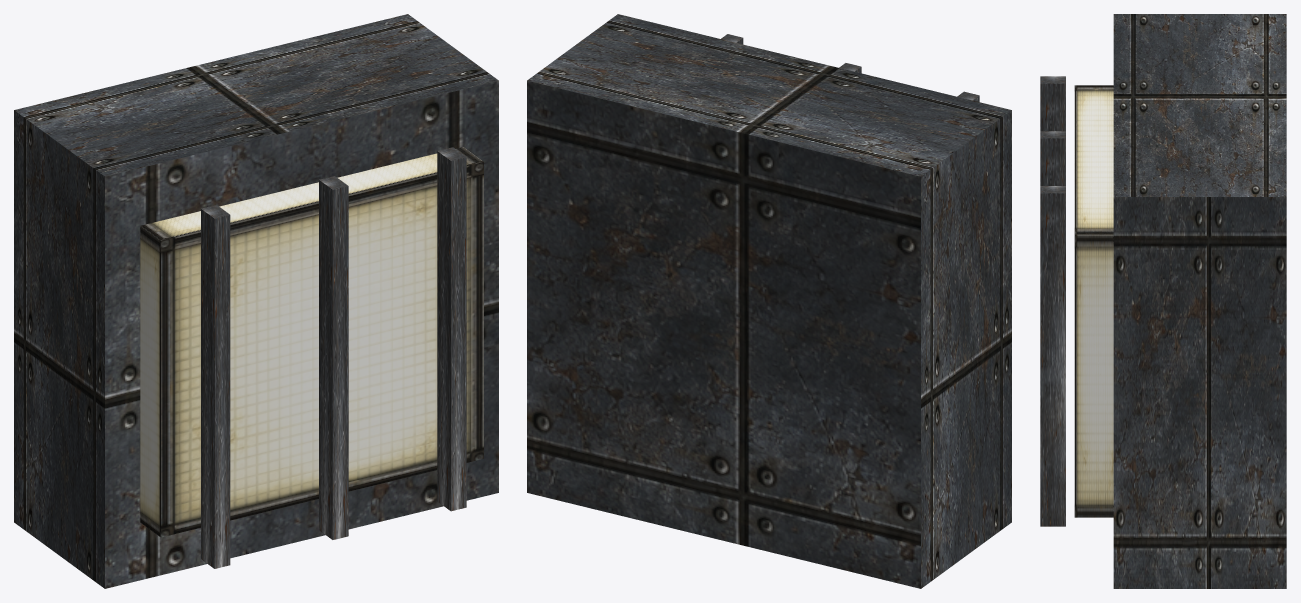
File: lamp.obj
3 renders of one model, left to right at view 1: azimuth 30°, elevation 25°; view 2: azimuth 150°, elevation 25°; view 3: azimuth 270°, elevation 25°, orthographic. The views are drawn at different scales.
Parts seen in each view (by area): view 1: lamp; view 2: lamp; view 3: lamp.
Part boxes in pixels (left/top/right/bottom): lamp: left=14, top=14, right=498, bottom=588; lamp: left=527, top=14, right=1011, bottom=588; lamp: left=1040, top=14, right=1286, bottom=588.
Bounding box in the file's own units: 1 × 1 × 0.57.
1 material, 1 textured.
